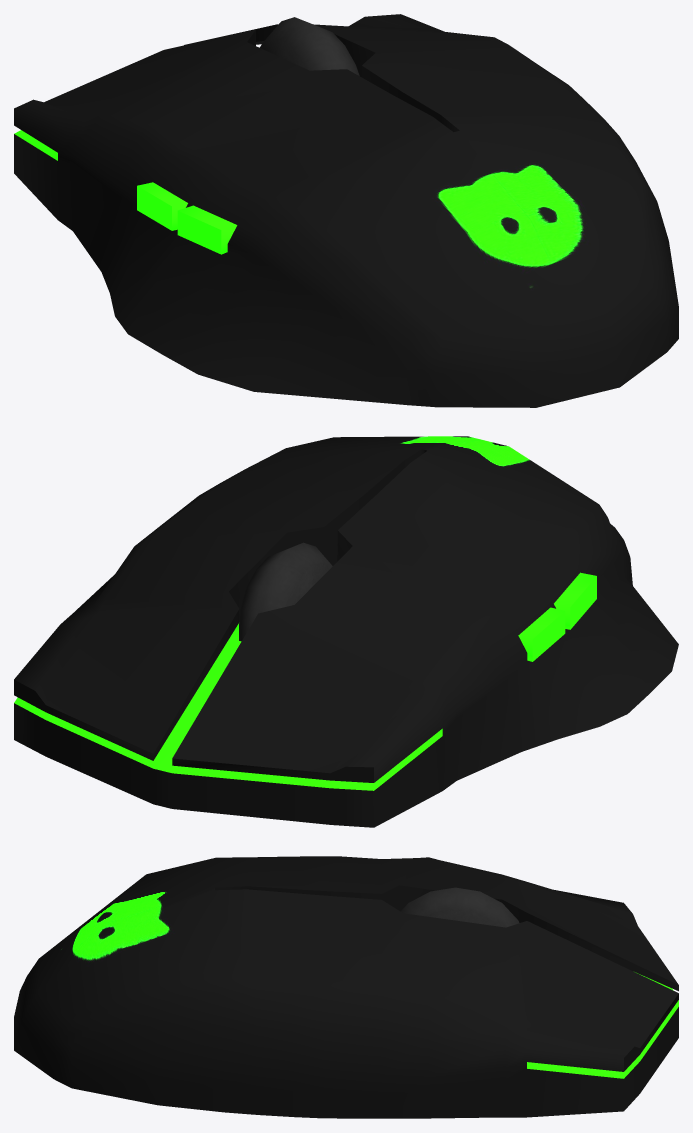
The model's file is mouse.fbx.
3 renders of one model, top to bottom at view 1: azimuth 30°, elevation 25°; view 2: azimuth 150°, elevation 25°; view 3: azimuth 270°, elevation 25°, orthographic. The views are drawn at different scales.
Parts seen in each view (by area): view 1: defaultMaterial, defaultMaterial.001; view 2: defaultMaterial, defaultMaterial.001; view 3: defaultMaterial, defaultMaterial.001.
Boxes of the visible parts, x1,y1,x2,y2 form: defaultMaterial: [14, 14, 678, 407]; defaultMaterial.001: [259, 17, 359, 75]; defaultMaterial: [14, 436, 678, 827]; defaultMaterial.001: [239, 542, 332, 641]; defaultMaterial: [14, 856, 678, 1118]; defaultMaterial.001: [401, 887, 519, 927].
Bounding box in the file's own units: 138 × 48.55 × 200.
